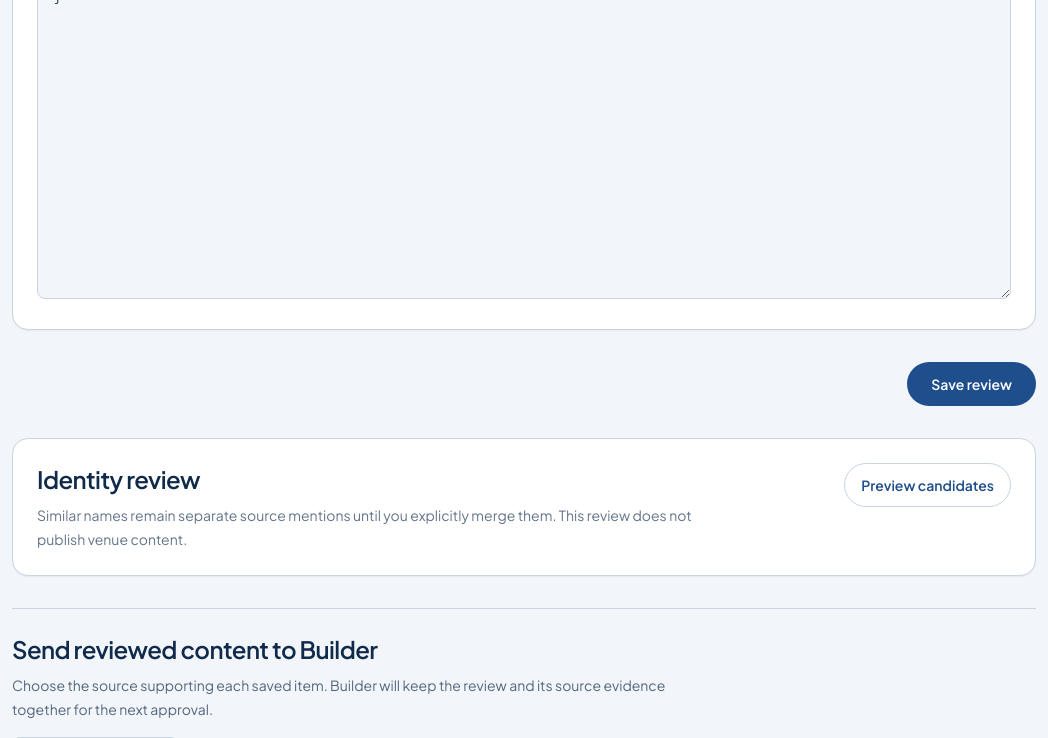
it: media ingestion review › surfaces optimistic-concurrency conflicts without claiming a save
(page scrolled)
Click the button "Save review" at (972, 384), box [907,362,1036,406]
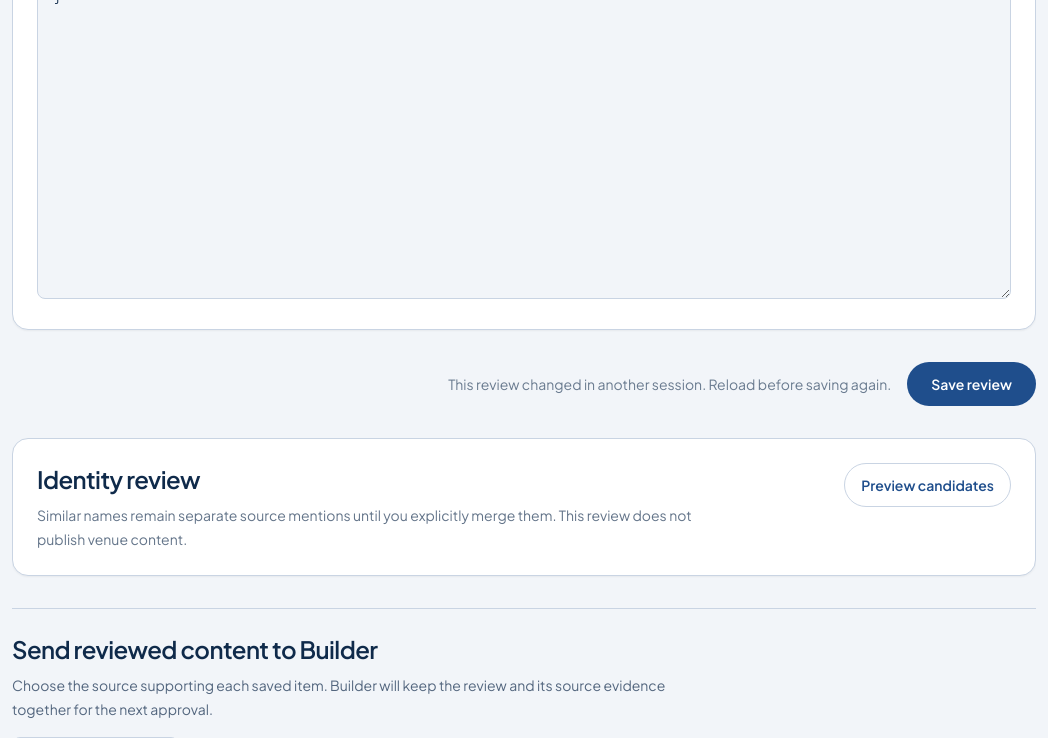
Check: the text "changed in another session" is shown, box [448,375,891,393]
